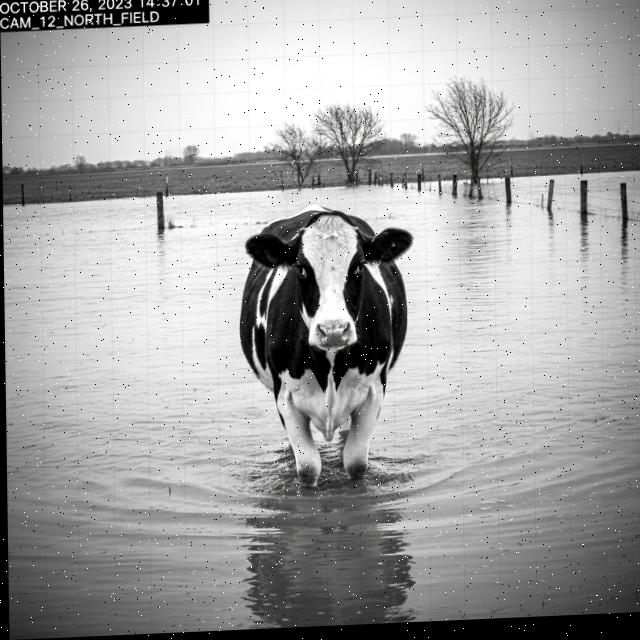cow: (220, 183, 434, 520)
